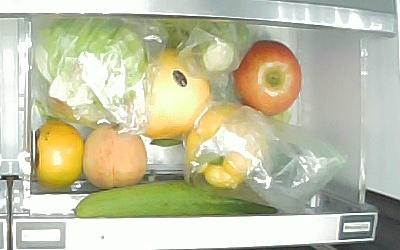apple: (234, 40, 304, 118)
broccoli_vinyl: (155, 20, 249, 74)
cucumber: (73, 181, 281, 216)
grapefruit: (135, 47, 209, 139)
lettuce_vinyl: (34, 18, 146, 119)
paprika_vinyl: (187, 106, 271, 192)
peach: (83, 124, 148, 189)
persimmon: (33, 120, 85, 189)
